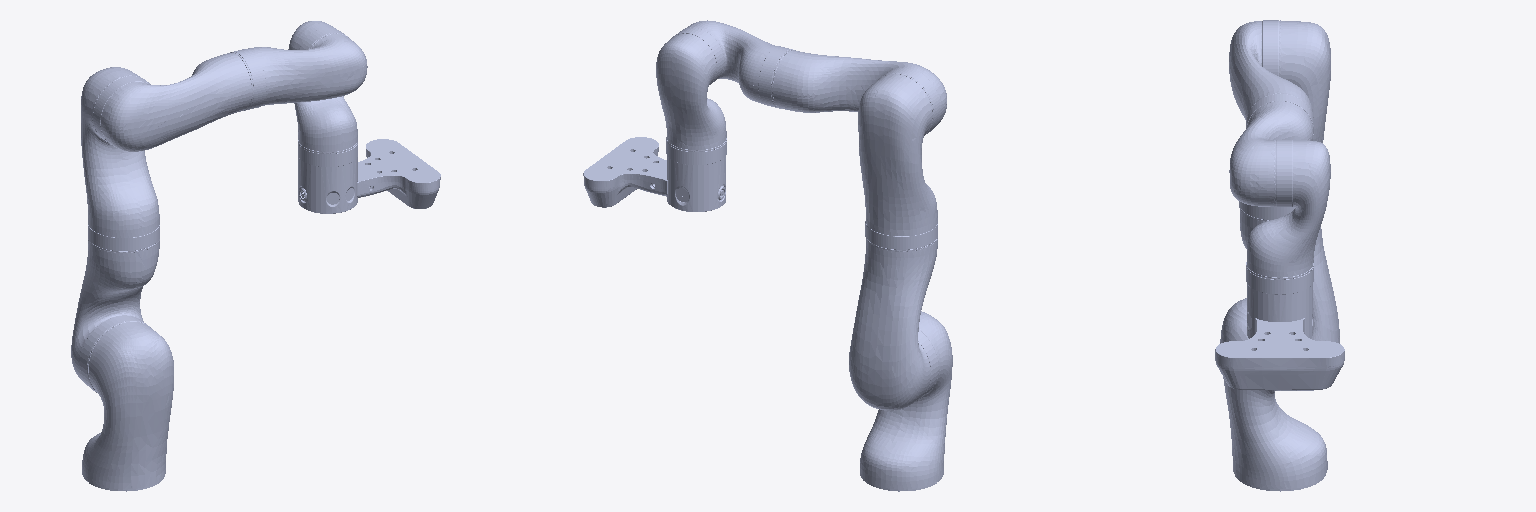
The robot description file, URDF, robot "tcb605v":
<?xml version="1.0" encoding="utf-8"?>
<!-- This URDF was automatically created by SolidWorks to URDF Exporter! Originally created by Stephen Brawner (brawner@gmail.com) 
     Commit Version: 1.6.0-4-g7f85cfe  Build Version: 1.6.7995.38578
     For more information, please see http://wiki.ros.org/sw_urdf_exporter -->
<robot
  name="tcb605v">
  <link
    name="link0">
    <inertial>
      <origin
        xyz="0.000708831292588157 -8.61075349148921E-05 0.0437241147546662"
        rpy="0 0 0" />
      <mass
        value="0.184997778677383" />
      <inertia
        ixx="0.000408655880224899"
        ixy="-6.47925326858499E-07"
        ixz="3.45905947380275E-06"
        iyy="0.000402045698173366"
        iyz="-4.42033155327581E-07"
        izz="0.000394929591269372" />
    </inertial>
    <visual>
      <origin
        xyz="0 0 0"
        rpy="0 0 0" />
      <geometry>
        <mesh
          filename="package://tl_description/meshes/tcb605v/link0.STL" />
      </geometry>
      <material
        name="">
        <color
          rgba="0.792156862745098 0.819607843137255 0.933333333333333 1" />
      </material>
    </visual>
    <collision>
      <origin
        xyz="0 0 0"
        rpy="0 0 0" />
      <geometry>
        <mesh
          filename="package://tl_description/meshes/tcb605v/link0.STL" />
      </geometry>
    </collision>
  </link>
  <link
    name="link1">
    <inertial>
      <origin
        xyz="-1.4419480289938E-05 -0.014702487554664 0.07396750722436"
        rpy="0 0 0" />
      <mass
        value="0.140777501279968" />
      <inertia
        ixx="0.000389139382248534"
        ixy="9.46017072775179E-09"
        ixz="-3.81962234255742E-08"
        iyy="0.00040457783564988"
        iyz="5.39559921200638E-05"
        izz="0.000158798700399572" />
    </inertial>
    <visual>
      <origin
        xyz="0 0 0"
        rpy="0 0 0" />
      <geometry>
        <mesh
          filename="package://tl_description/meshes/tcb605v/link1.STL" />
      </geometry>
      <material
        name="">
        <color
          rgba="0.792156862745098 0.819607843137255 0.933333333333333 1" />
      </material>
    </visual>
    <collision>
      <origin
        xyz="0 0 0"
        rpy="0 0 0" />
      <geometry>
        <mesh
          filename="package://tl_description/meshes/tcb605v/link1.STL" />
      </geometry>
    </collision>
  </link>
  <joint
    name="joint1"
    type="revolute">
    <origin
      xyz="0 0 0.11455"
      rpy="0 0 0" />
    <parent
      link="link0" />
    <child
      link="link1" />
    <axis
      xyz="0 0 1" />
    <limit
      lower="-3.1226"
      upper="3.1226"
      effort="0"
      velocity="0" />
  </joint>
  <link
    name="link2">
    <inertial>
      <origin
        xyz="-5.79181231138244E-05 0.131534057306466 -0.00870385852395027"
        rpy="0 0 0" />
      <mass
        value="0.239050205406187" />
      <inertia
        ixx="0.00213008408014295"
        ixy="2.28109937757426E-06"
        ixz="2.26567562795049E-07"
        iyy="0.000220524222389725"
        iyz="-8.90206791030199E-05"
        izz="0.00214710145041316" />
    </inertial>
    <visual>
      <origin
        xyz="0 0 0"
        rpy="0 0 0" />
      <geometry>
        <mesh
          filename="package://tl_description/meshes/tcb605v/link2.STL" />
      </geometry>
      <material
        name="">
        <color
          rgba="0.792156862745098 0.819607843137255 0.933333333333333 1" />
      </material>
    </visual>
    <collision>
      <origin
        xyz="0 0 0"
        rpy="0 0 0" />
      <geometry>
        <mesh
          filename="package://tl_description/meshes/tcb605v/link2.STL" />
      </geometry>
    </collision>
  </link>
  <joint
    name="joint2"
    type="revolute">
    <origin
      xyz="0 0.00715 0.12725"
      rpy="1.5708 0 0" />
    <parent
      link="link1" />
    <child
      link="link2" />
    <axis
      xyz="0 0 1" />
    <limit
      lower="-2.3562"
      upper="2.3562"
      effort="0"
      velocity="0" />
  </joint>
  <link
    name="link3">
    <inertial>
      <origin
        xyz="6.4654509898121E-06 -0.0577535239528721 0.00878471471824431"
        rpy="0 0 0" />
      <mass
        value="0.0945260086054914" />
      <inertia
        ixx="0.000237785840924455"
        ixy="5.31249467747903E-08"
        ixz="1.09590837973063E-09"
        iyy="6.42616332886197E-05"
        iyz="-4.60316398863721E-05"
        izz="0.000240859287940504" />
    </inertial>
    <visual>
      <origin
        xyz="0 0 0"
        rpy="0 0 0" />
      <geometry>
        <mesh
          filename="package://tl_description/meshes/tcb605v/link3.STL" />
      </geometry>
      <material
        name="">
        <color
          rgba="0.792156862745098 0.819607843137255 0.933333333333333 1" />
      </material>
    </visual>
    <collision>
      <origin
        xyz="0 0 0"
        rpy="0 0 0" />
      <geometry>
        <mesh
          filename="package://tl_description/meshes/tcb605v/link3.STL" />
      </geometry>
    </collision>
  </link>
  <joint
    name="joint3"
    type="revolute">
    <origin
      xyz="0 0.2698 0.0155"
      rpy="0 0 1.5708" />
    <parent
      link="link2" />
    <child
      link="link3" />
    <axis
      xyz="0 0 1" />
    <limit
      lower="-0.9520"
      upper="4.0666"
      effort="0"
      velocity="0" />
  </joint>
  <link
    name="link4">
    <inertial>
      <origin
        xyz="-1.0129208020293E-05 0.0129940529982604 0.0552923195590632"
        rpy="0 0 0" />
      <mass
        value="0.0720846611884403" />
      <inertia
        ixx="0.000105414922518031"
        ixy="1.21124947172991E-08"
        ixz="-2.47010133386218E-09"
        iyy="0.000106134688945483"
        iyz="-1.8645718185027E-05"
        izz="4.55694990806814E-05" />
    </inertial>
    <visual>
      <origin
        xyz="0 0 0"
        rpy="0 0 0" />
      <geometry>
        <mesh
          filename="package://tl_description/meshes/tcb605v/link4.STL" />
      </geometry>
      <material
        name="">
        <color
          rgba="0.792156862745098 0.819607843137255 0.933333333333333 1" />
      </material>
    </visual>
    <collision>
      <origin
        xyz="0 0 0"
        rpy="0 0 0" />
      <geometry>
        <mesh
          filename="package://tl_description/meshes/tcb605v/link4.STL" />
      </geometry>
    </collision>
  </link>
  <joint
    name="joint4"
    type="revolute">
    <origin
      xyz="0 -0.13665 -0.00835"
      rpy="1.5708 0 0" />
    <parent
      link="link3" />
    <child
      link="link4" />
    <axis
      xyz="0 0 1" />
    <limit
      lower="-3.1226"
      upper="3.1226"
      effort="0"
      velocity="0" />
  </joint>
  <link
    name="link5">
    <inertial>
      <origin
        xyz="-0.0369306836782879 1.08449203789496E-06 0.0120181314405706"
        rpy="0 0 0" />
      <mass
        value="0.0641129464652184" />
      <inertia
        ixx="4.10033751128909E-05"
        ixy="-7.57275459160093E-09"
        ixz="-2.10914867893561E-05"
        iyy="9.88028522156522E-05"
        iyz="3.11129187992408E-09"
        izz="9.73769554967712E-05" />
    </inertial>
    <visual>
      <origin
        xyz="0 0 0"
        rpy="0 0 0" />
      <geometry>
        <mesh
          filename="package://tl_description/meshes/tcb605v/link5.STL" />
      </geometry>
      <material
        name="">
        <color
          rgba="0.792156862745098 0.819607843137255 0.933333333333333 1" />
      </material>
    </visual>
    <collision>
      <origin
        xyz="0 0 0"
        rpy="0 0 0" />
      <geometry>
        <mesh
          filename="package://tl_description/meshes/tcb605v/link5.STL" />
      </geometry>
    </collision>
  </link>
  <joint
    name="joint5"
    type="revolute">
    <origin
      xyz="0 -0.00365 0.09315"
      rpy="1.5708 0 0" />
    <parent
      link="link4" />
    <child
      link="link5" />
    <axis
      xyz="0 0 1" />
    <limit
      lower="-3.8921"
      upper="0.7505"
      effort="0"
      velocity="0" />
  </joint>
  <link
    name="link6">
    <inertial>
      <origin
        xyz="0.0487295164441189 -0.000324755078229225 -0.0141105989923188"
        rpy="0 0 0" />
      <mass
        value="0.149790644337515" />
      <inertia
        ixx="0.000107353445743322"
        ixy="2.30487724786407E-06"
        ixz="-4.38540071455764E-05"
        iyy="0.000281991909140788"
        iyz="8.1561971823234E-08"
        izz="0.000329332774864544" />
    </inertial>
    <visual>
      <origin
        xyz="0 0 0"
        rpy="0 0 0" />
      <geometry>
        <mesh
          filename="package://tl_description/meshes/tcb605v/link6.STL" />
      </geometry>
      <material
        name="">
        <color
          rgba="0.792156862745098 0.819607843137255 0.933333333333333 1" />
      </material>
    </visual>
    <collision>
      <origin
        xyz="0 0 0"
        rpy="0 0 0" />
      <geometry>
        <mesh
          filename="package://tl_description/meshes/tcb605v/link6.STL" />
      </geometry>
    </collision>
  </link>
  <joint
    name="joint6"
    type="revolute">
    <origin
      xyz="-0.1528 0 -0.00385"
      rpy="-1.5708 0 1.5708" />
    <parent
      link="link5" />
    <child
      link="link6" />
    <axis
      xyz="0 0 1" />
    <limit
      lower="-3.1226"
      upper="3.1226"
      effort="0"
      velocity="0" />
  </joint>
  <link
    name="camera_link">
    <inertial>
      <origin
        xyz="0.0124843774722986 -0.00117311938839533 0.00587064733755627"
        rpy="0 0 0" />
      <mass
        value="0.0471700198223163" />
      <inertia
        ixx="2.89731882303057E-05"
        ixy="5.7822649083554E-10"
        ixz="-4.33349098735326E-09"
        iyy="4.39204772015717E-06"
        iyz="-4.20817633389886E-07"
        izz="2.8728183262388E-05" />
    </inertial>
    <visual>
      <origin
        xyz="0 0 0"
        rpy="0 0 0" />
      <geometry>
        <mesh
          filename="package://tl_description/meshes/tcb605v/camera_link.STL" />
      </geometry>
      <material
        name="">
        <color
          rgba="0.792156862745098 0.819607843137255 0.933333333333333 1" />
      </material>
    </visual>
    <collision>
      <origin
        xyz="0 0 0"
        rpy="0 0 0" />
      <geometry>
        <mesh
          filename="package://tl_description/meshes/tcb605v/camera_link.STL" />
      </geometry>
    </collision>
  </link>
  <joint
    name="camera_joint"
    type="fixed">
    <origin
      xyz="0.072 0 -0.010719"
      rpy="0 0 0" />
    <parent
      link="link6" />
    <child
      link="camera_link" />
    <axis
      xyz="0 0 0" />
  </joint>
</robot>

--- What the picture shows (computed from the rendered views, not written in the file) ---
3 views of the same robot in one strip: view 1: azimuth 30°, elevation 25°; view 2: azimuth 150°, elevation 25°; view 3: azimuth 270°, elevation 25° (orthographic).
Robot: tcb605v — 8 links, 7 joints (6 revolute, 1 fixed); root link link0; default pose: all joints at 0.
Links seen in each view (by area): view 1: link2, link1, link3, link6, link4, link5; view 2: link2, link1, link5, link3, link6, link4; view 3: link6, link1, link2, link5, link4, link3.
Boxes of the visible links, x1,y1,x2,y2 form: link2: [71, 67, 159, 385]; link1: [80, 315, 173, 491]; link3: [101, 49, 266, 151]; link6: [298, 139, 440, 213]; link4: [248, 28, 367, 105]; link5: [288, 21, 357, 166]; link2: [849, 68, 940, 410]; link1: [860, 311, 952, 491]; link5: [656, 33, 726, 164]; link3: [758, 46, 946, 124]; link6: [583, 137, 725, 211]; link4: [672, 20, 777, 103]; link6: [1215, 284, 1344, 389]; link1: [1220, 298, 1327, 491]; link2: [1239, 20, 1339, 390]; link5: [1246, 140, 1330, 294]; link4: [1229, 101, 1313, 206]; link3: [1229, 21, 1313, 136].
Size in the robot's own frame: 0.3732 by 0.112 by 0.4278 metres.
7 mesh visuals loaded from 8 distinct referenced files (7 binary STL); not drawn: 1 (reference not matched to a file when rendering).
